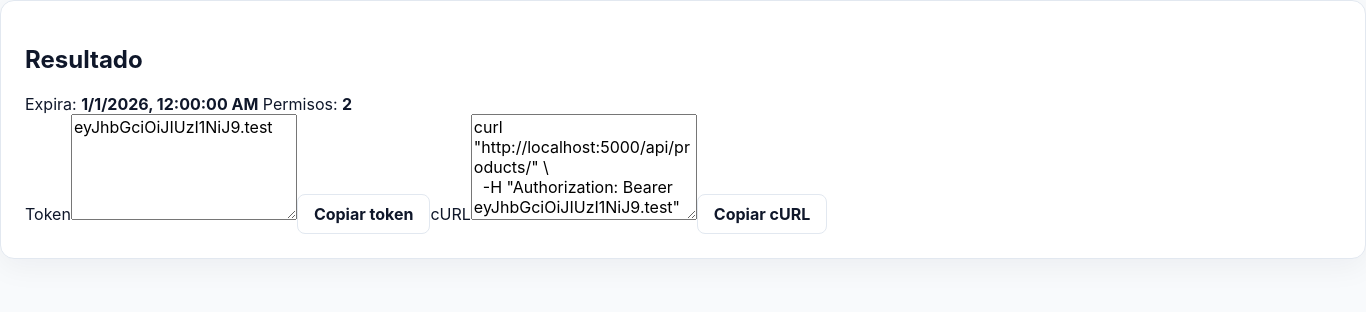
Test: TestTokenResult › copies the curl command with feedback
Click the button "Copiar cURL": (762, 214) x1=697 y1=194 x2=827 y2=234
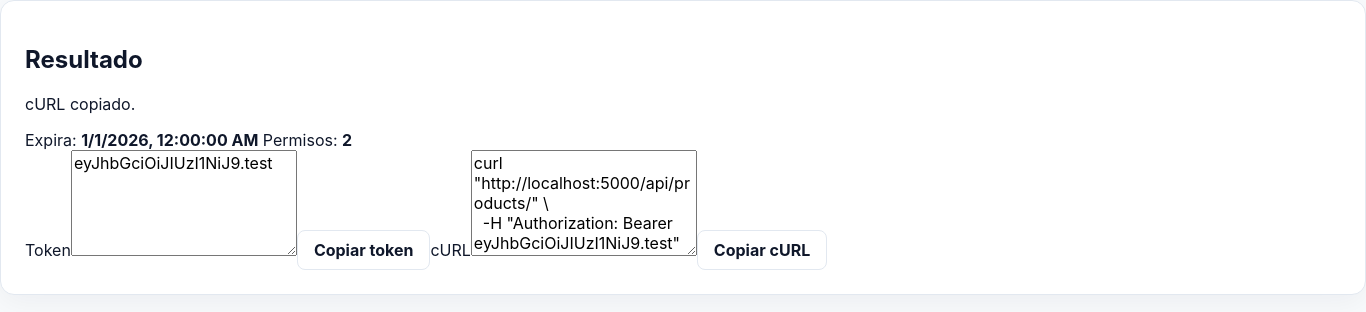
Check: the text "cURL copiado." is shown, box x1=25 y1=94 x2=135 y2=114
